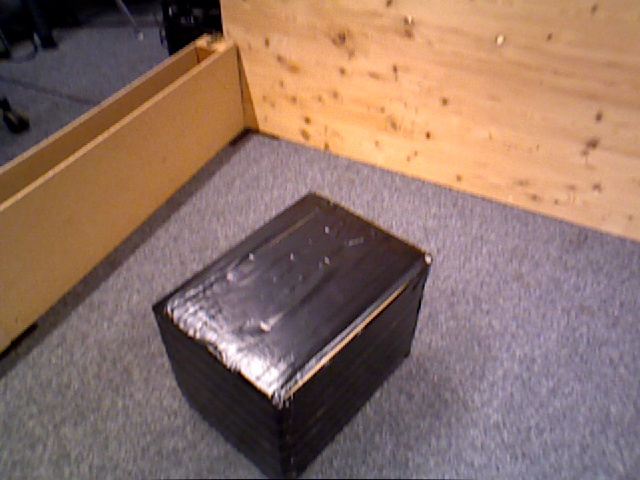push: (157, 204, 428, 474)
